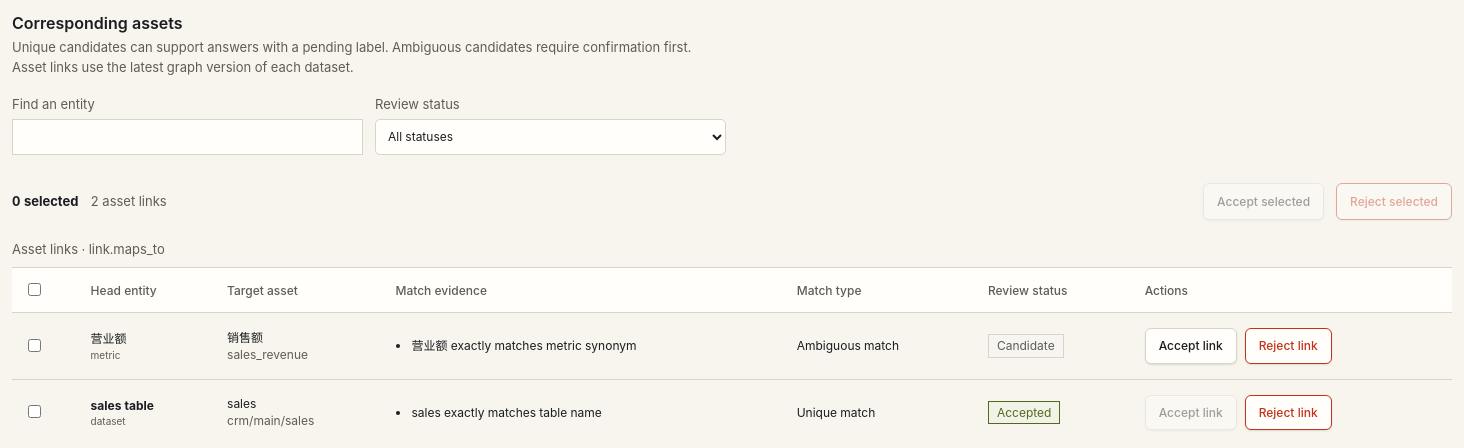
Test case: filters link assertions, clears selections, and submits exactly the displayed selected IDs
The image size is (1464, 448).
Click the checkbox named "Select all displayed asset links": [34, 290] box [28,283,41,296]
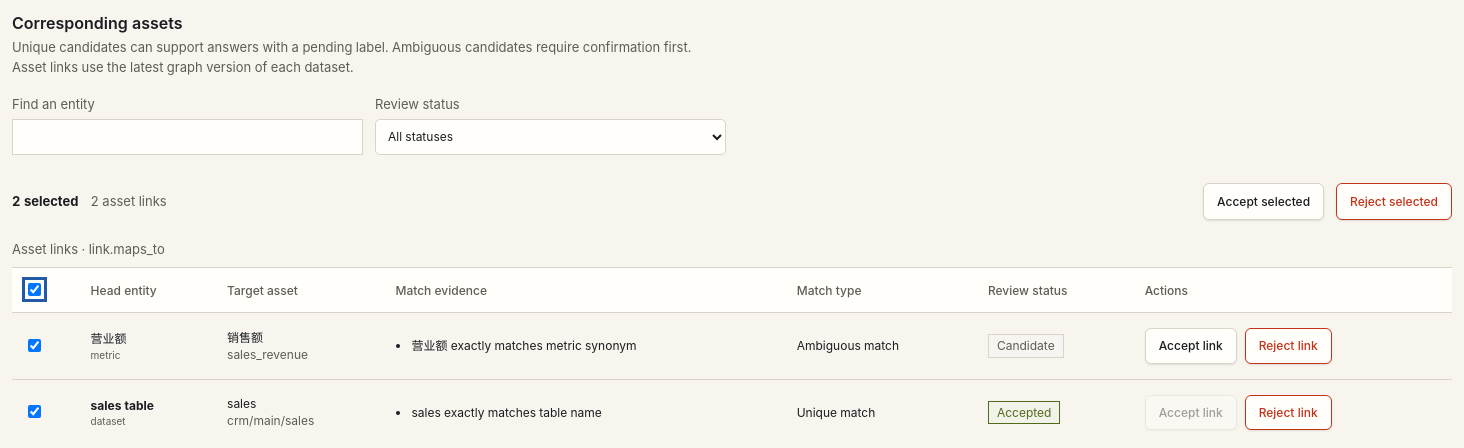
expect the text "2 selected" is shown: met, box [12,191,78,212]
Select "Candidate" in the dropdown labelled "Review status": [550, 137] box [375,119,726,155]
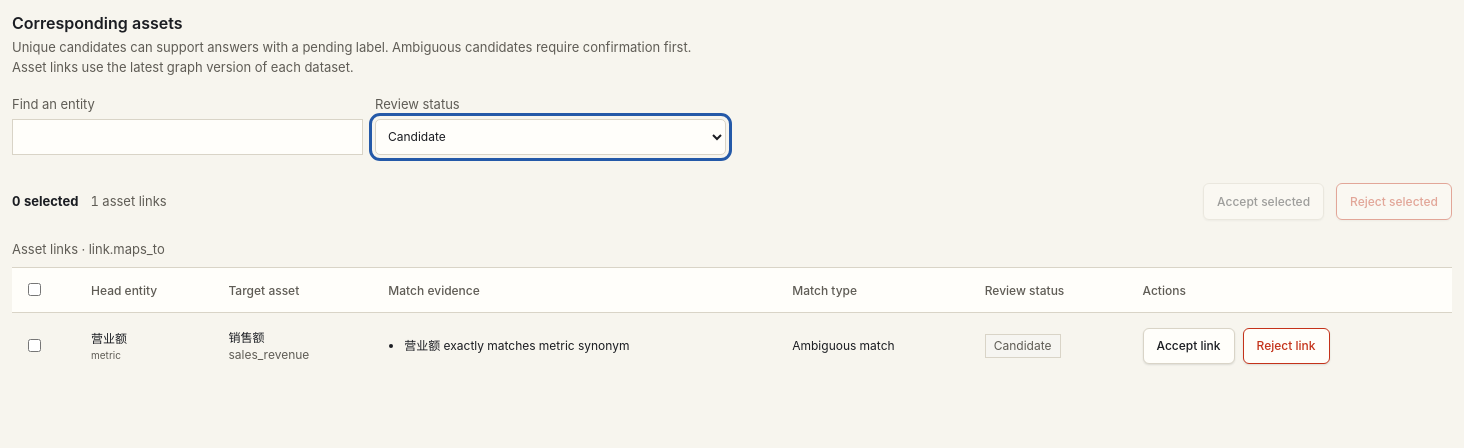
expect the text "0 selected" is shown: met, box [12,191,78,212]
Click the checkbox named "Select all displayed asset links": [34, 290] box [28,283,41,296]
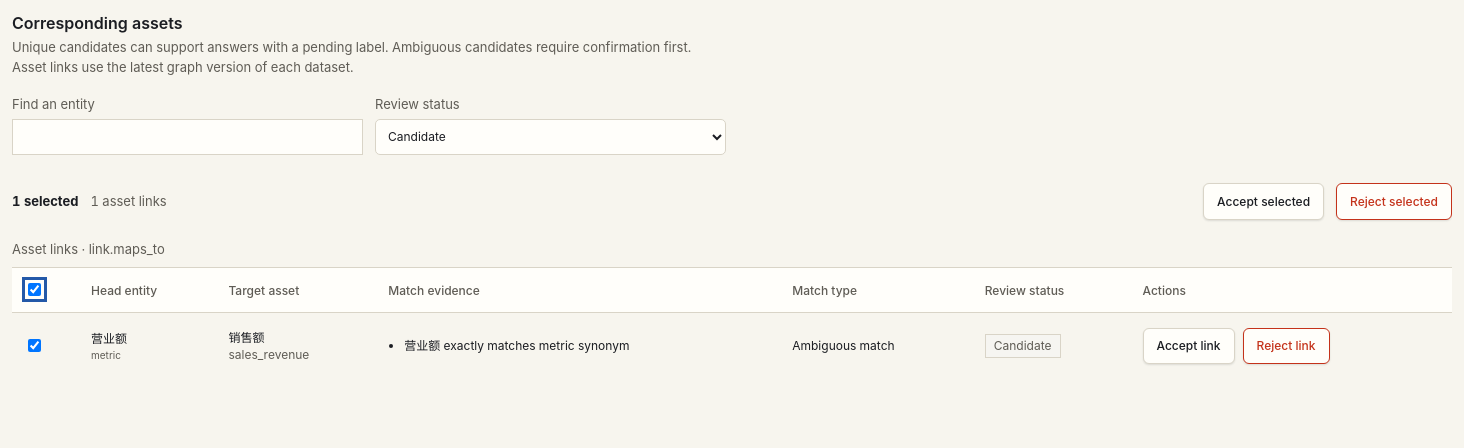
Click the button "Accept selected": [1264, 202] box [1203,183,1324,220]
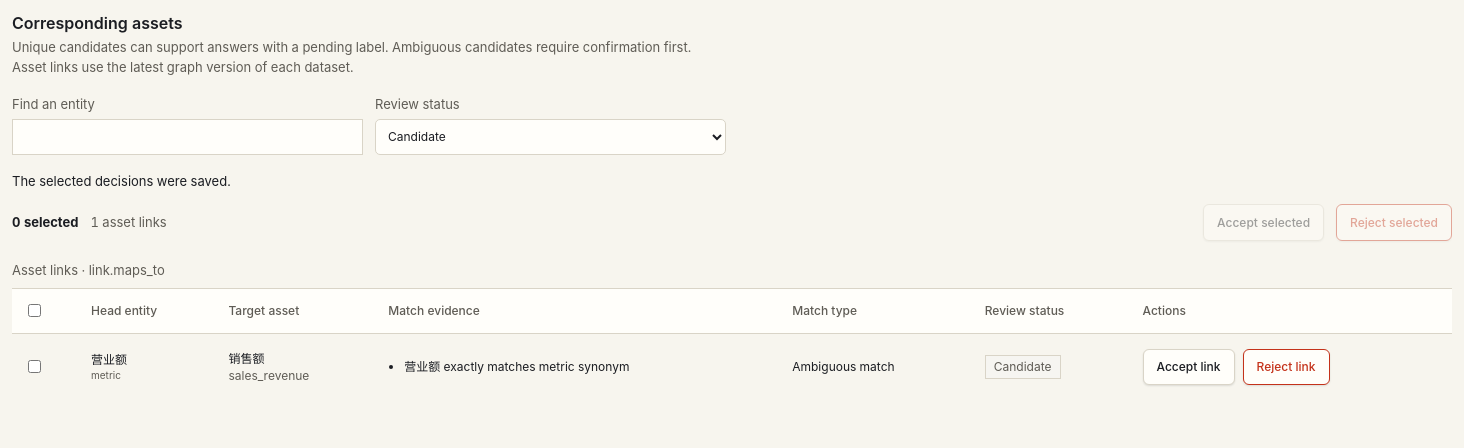
expect the text "The selected decisions were saved." is shown: met, box [12,173,231,189]
